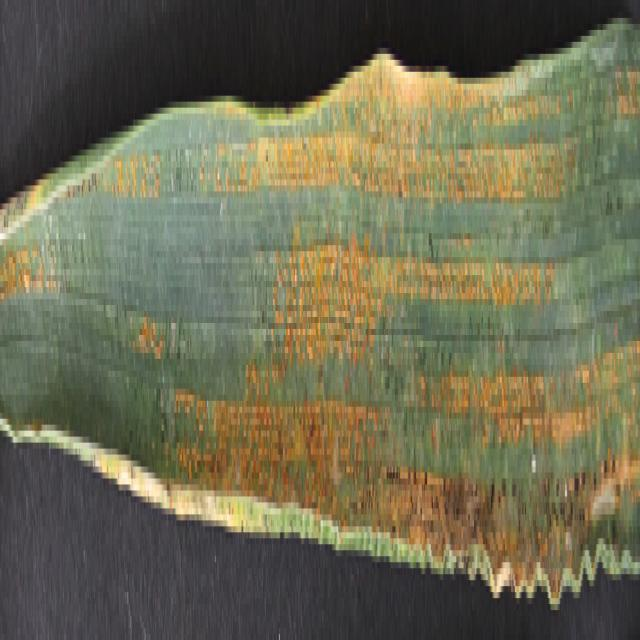leaf rust: (113, 24, 640, 562)
